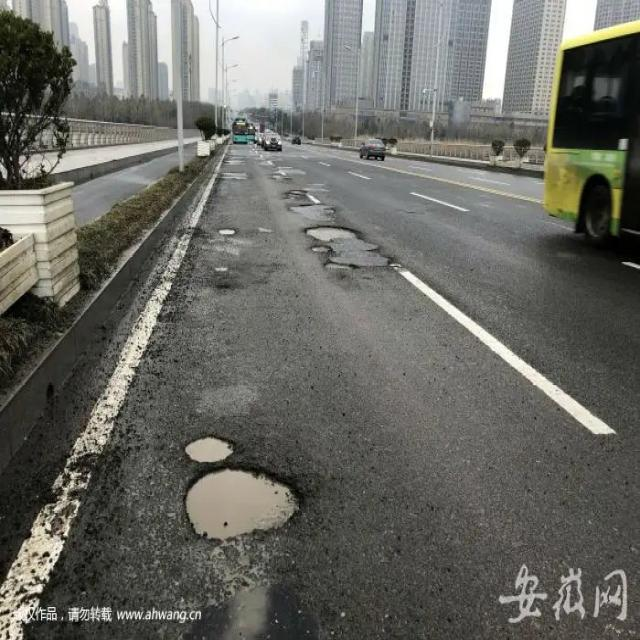Pothole: (178, 467, 304, 545), (303, 220, 395, 276), (176, 434, 240, 461), (284, 180, 318, 206), (208, 221, 240, 240)
